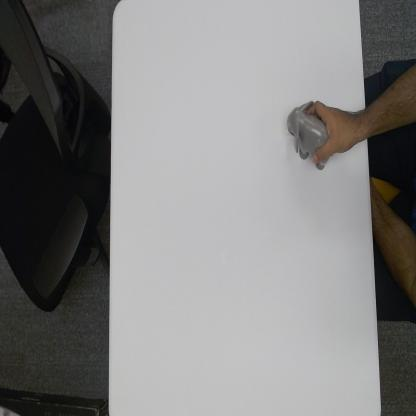Elephant: (287, 100, 332, 172)
Hand: (306, 98, 366, 167)
